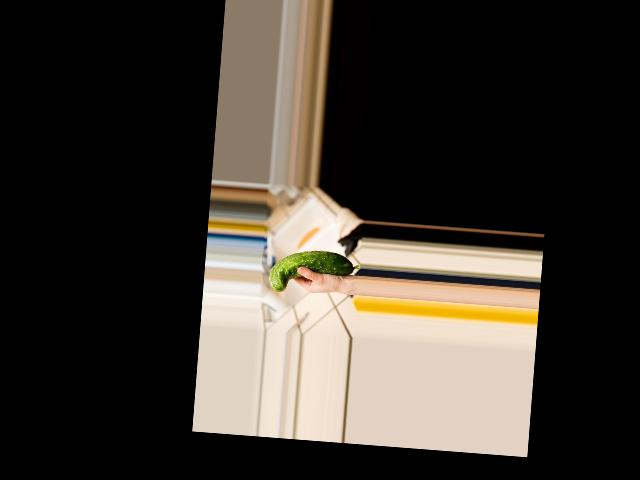cucumber: (268, 246, 360, 297)
